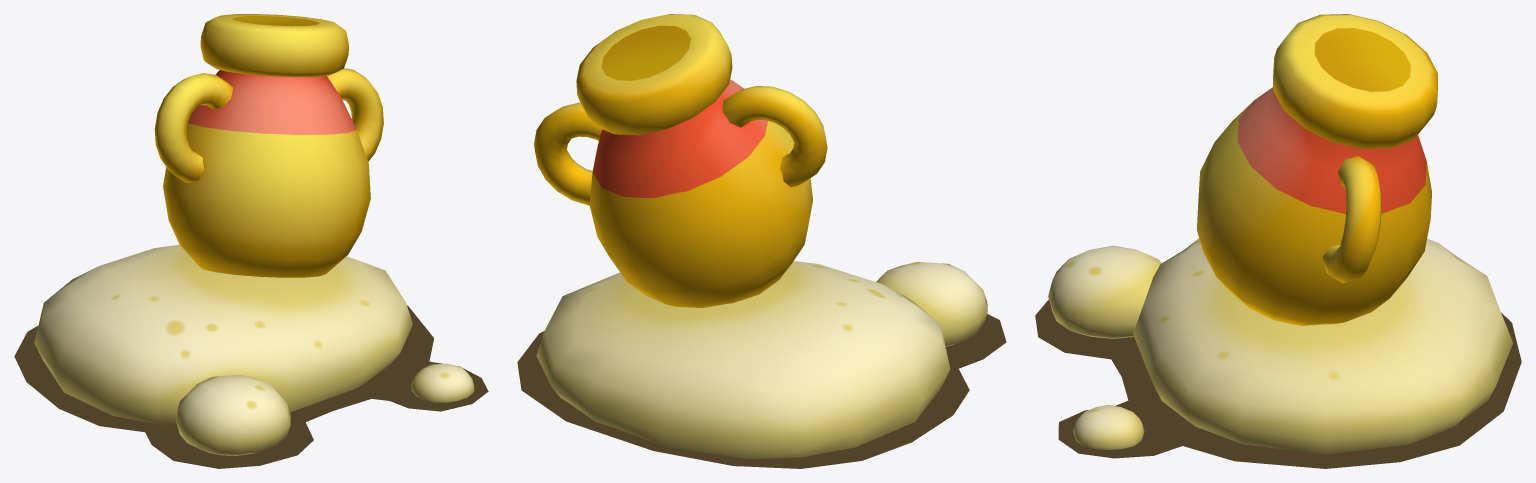
File: E_Pot03.fbx
3 views of the same model, side by side, from view 1: azimuth 30°, elevation 25°; view 2: azimuth 150°, elevation 25°; view 3: azimuth 270°, elevation 25° (orthographic). The views are drawn at different scales.
Parts seen in each view (by area): view 1: E_pot03c, E_pot03b, E_pot03a; view 2: E_pot03c, E_pot03b, E_pot03a; view 3: E_pot03c, E_pot03b, E_pot03a.
Part boxes in pixels (x1=…): E_pot03c: x1=34, y1=245, x2=474, y2=455; E_pot03b: x1=154, y1=14, x2=383, y2=277; E_pot03a: x1=14, y1=305, x2=488, y2=468; E_pot03c: x1=536, y1=261, x2=987, y2=458; E_pot03b: x1=534, y1=14, x2=827, y2=307; E_pot03a: x1=517, y1=314, x2=1006, y2=468; E_pot03c: x1=1048, y1=238, x2=1512, y2=454; E_pot03b: x1=1197, y1=14, x2=1437, y2=325; E_pot03a: x1=1035, y1=299, x2=1521, y2=468.
Bounding box in the file's own units: 109 × 92.68 × 109.
